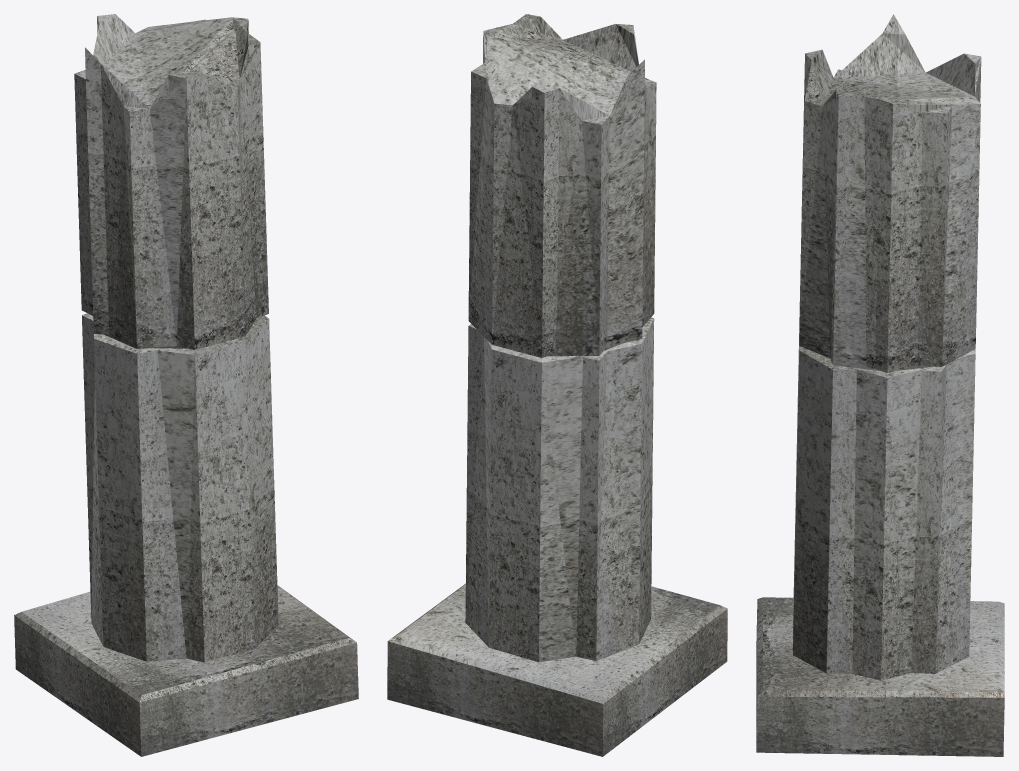
Rendered from RuinPillar_01.glb.
3 views of the same model, side by side, from view 1: azimuth 30°, elevation 25°; view 2: azimuth 150°, elevation 25°; view 3: azimuth 270°, elevation 25° (orthographic).
Visible parts, largest first — view 1: geom-RuinPillarOne100, geom-RuinPillarOne200; view 2: geom-RuinPillarOne100, geom-RuinPillarOne200; view 3: geom-RuinPillarOne100, geom-RuinPillarOne200.
Part boxes in pixels (bbox=[...]): geom-RuinPillarOne100: bbox=[91, 20, 278, 662]; geom-RuinPillarOne200: bbox=[14, 14, 358, 756]; geom-RuinPillarOne100: bbox=[465, 24, 656, 662]; geom-RuinPillarOne200: bbox=[387, 14, 727, 756]; geom-RuinPillarOne100: bbox=[793, 57, 981, 680]; geom-RuinPillarOne200: bbox=[756, 14, 1004, 756].
Bounding box in the file's own units: 8.04 × 23.19 × 8.04.
1 material, 1 textured.
